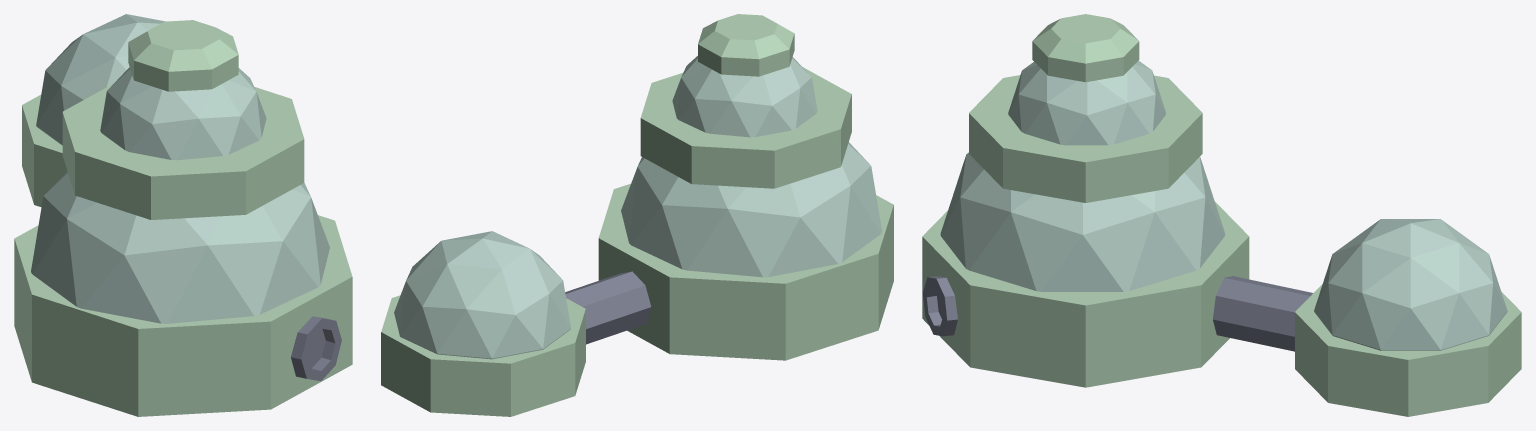
The model's file is appart v2 02.fbx.
3 renders of one model, left to right at view 1: azimuth 30°, elevation 25°; view 2: azimuth 150°, elevation 25°; view 3: azimuth 270°, elevation 25°, orthographic. The views are drawn at different scales.
Visible parts, largest first — view 1: Cylinder, Icosphere.001, Cylinder.001, Icosphere.002, Cylinder.002, Icosphere, Cylinder.004, Cylinder.005; view 2: Cylinder, Icosphere.001, Icosphere, Cylinder.001, Cylinder.004, Icosphere.002, Cylinder.002, Cylinder.003; view 3: Cylinder, Icosphere.001, Icosphere, Cylinder.001, Cylinder.004, Icosphere.002, Cylinder.002, Cylinder.003, Cylinder.005.
Part boxes in pixels (x1,y1,x2,y2): Cylinder: [14, 215, 352, 416]; Icosphere.001: [31, 171, 329, 323]; Cylinder.001: [62, 83, 304, 219]; Icosphere.002: [100, 67, 266, 160]; Cylinder.002: [128, 20, 238, 91]; Icosphere: [36, 14, 165, 145]; Cylinder.004: [22, 94, 67, 207]; Cylinder.005: [291, 316, 341, 381]; Cylinder: [598, 183, 893, 360]; Icosphere.001: [621, 142, 882, 277]; Icosphere: [394, 231, 570, 359]; Cylinder.001: [640, 67, 851, 188]; Cylinder.004: [381, 295, 585, 416]; Icosphere.002: [672, 56, 817, 137]; Cylinder.002: [698, 14, 794, 76]; Cylinder.003: [565, 271, 651, 344]; Cylinder: [922, 202, 1249, 387]; Icosphere.001: [940, 152, 1225, 291]; Icosphere: [1314, 219, 1507, 350]; Cylinder.001: [969, 75, 1202, 202]; Cylinder.004: [1295, 284, 1521, 416]; Icosphere.002: [1008, 60, 1165, 145]; Cylinder.002: [1032, 14, 1139, 82]; Cylinder.003: [1213, 276, 1312, 351]; Cylinder.005: [922, 276, 957, 336].
Size of the model in its own units: 691 by 533 by 998.
